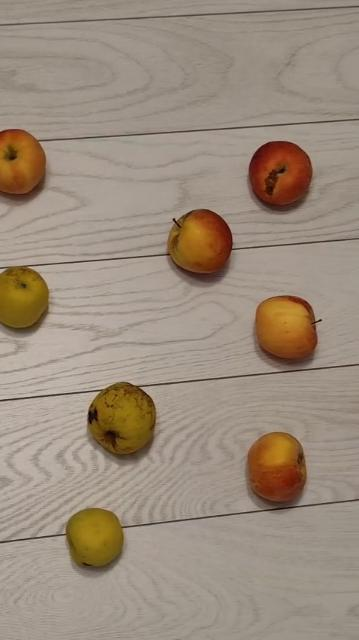apple_green: (87, 382, 156, 454), (66, 507, 124, 566), (0, 266, 48, 328)
apple_red: (167, 208, 232, 273), (248, 140, 312, 206), (247, 432, 307, 502), (255, 295, 319, 358), (0, 128, 46, 193)
